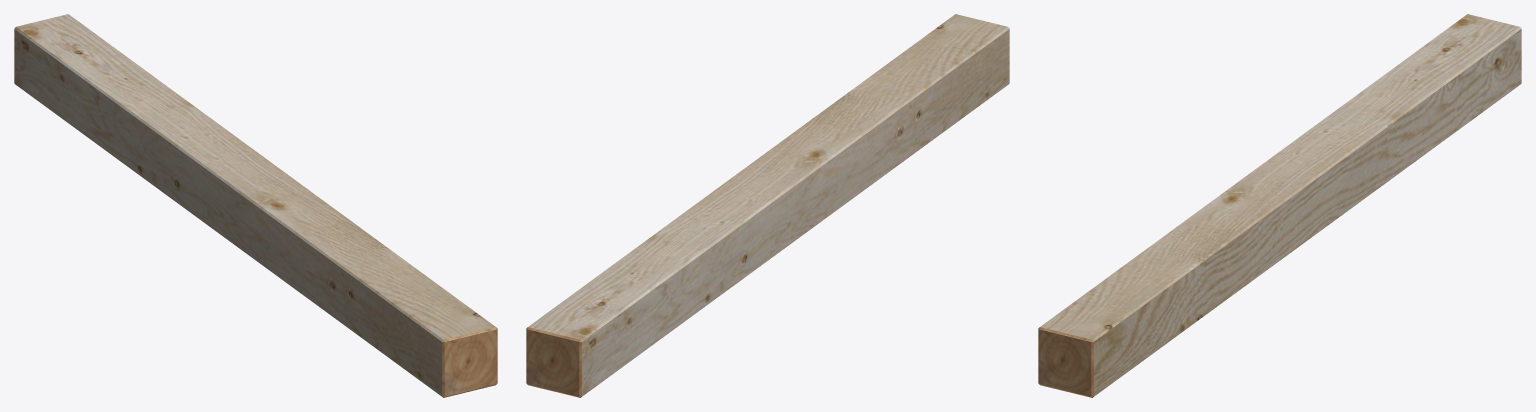
Rendered from elements.glb.
3 renders of one model, left to right at view 1: azimuth 30°, elevation 25°; view 2: azimuth 150°, elevation 25°; view 3: azimuth 330°, elevation 25°, orthographic.
Visible parts, largest first — view 1: R9; view 2: R9; view 3: R9.
Part boxes in pixels (box(x1,y1,x2,y2)): R9: box(14, 14, 497, 397); R9: box(526, 14, 1009, 397); R9: box(1038, 14, 1521, 397).
Size of the model in its own units: 0.28 by 0.28 by 3.75.
1 material, 1 textured.
